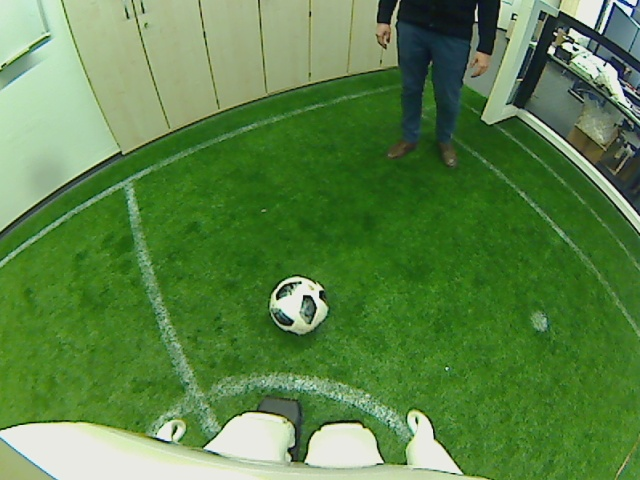ball: (268, 276, 329, 336)
